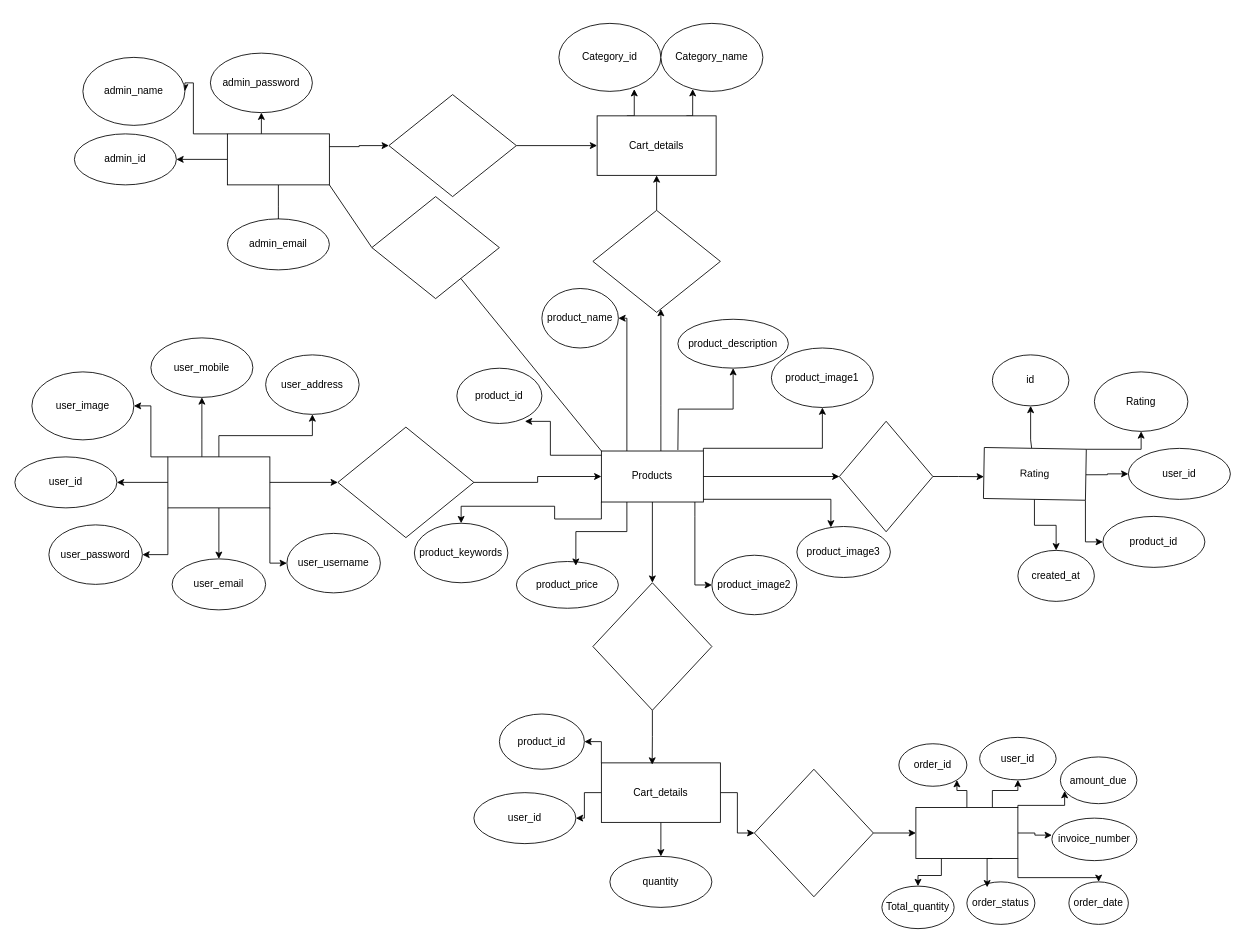
Image size: 1245x944. Some labels were removed from this diagram. Here are the shapes that lost their labels. From the top down, the centre of each, then its label:
At (278,159): "admin".
At (452,145): "addCategory".
At (435,247): "addedProduct".
At (656,261): "Has".
At (218,482): "Users".
At (405,482): "Recommended Product".
At (886,476): "Rate Product".
At (652,646): "Add to Cart".
At (813,832): "order".
At (966,832): "user_orders".
